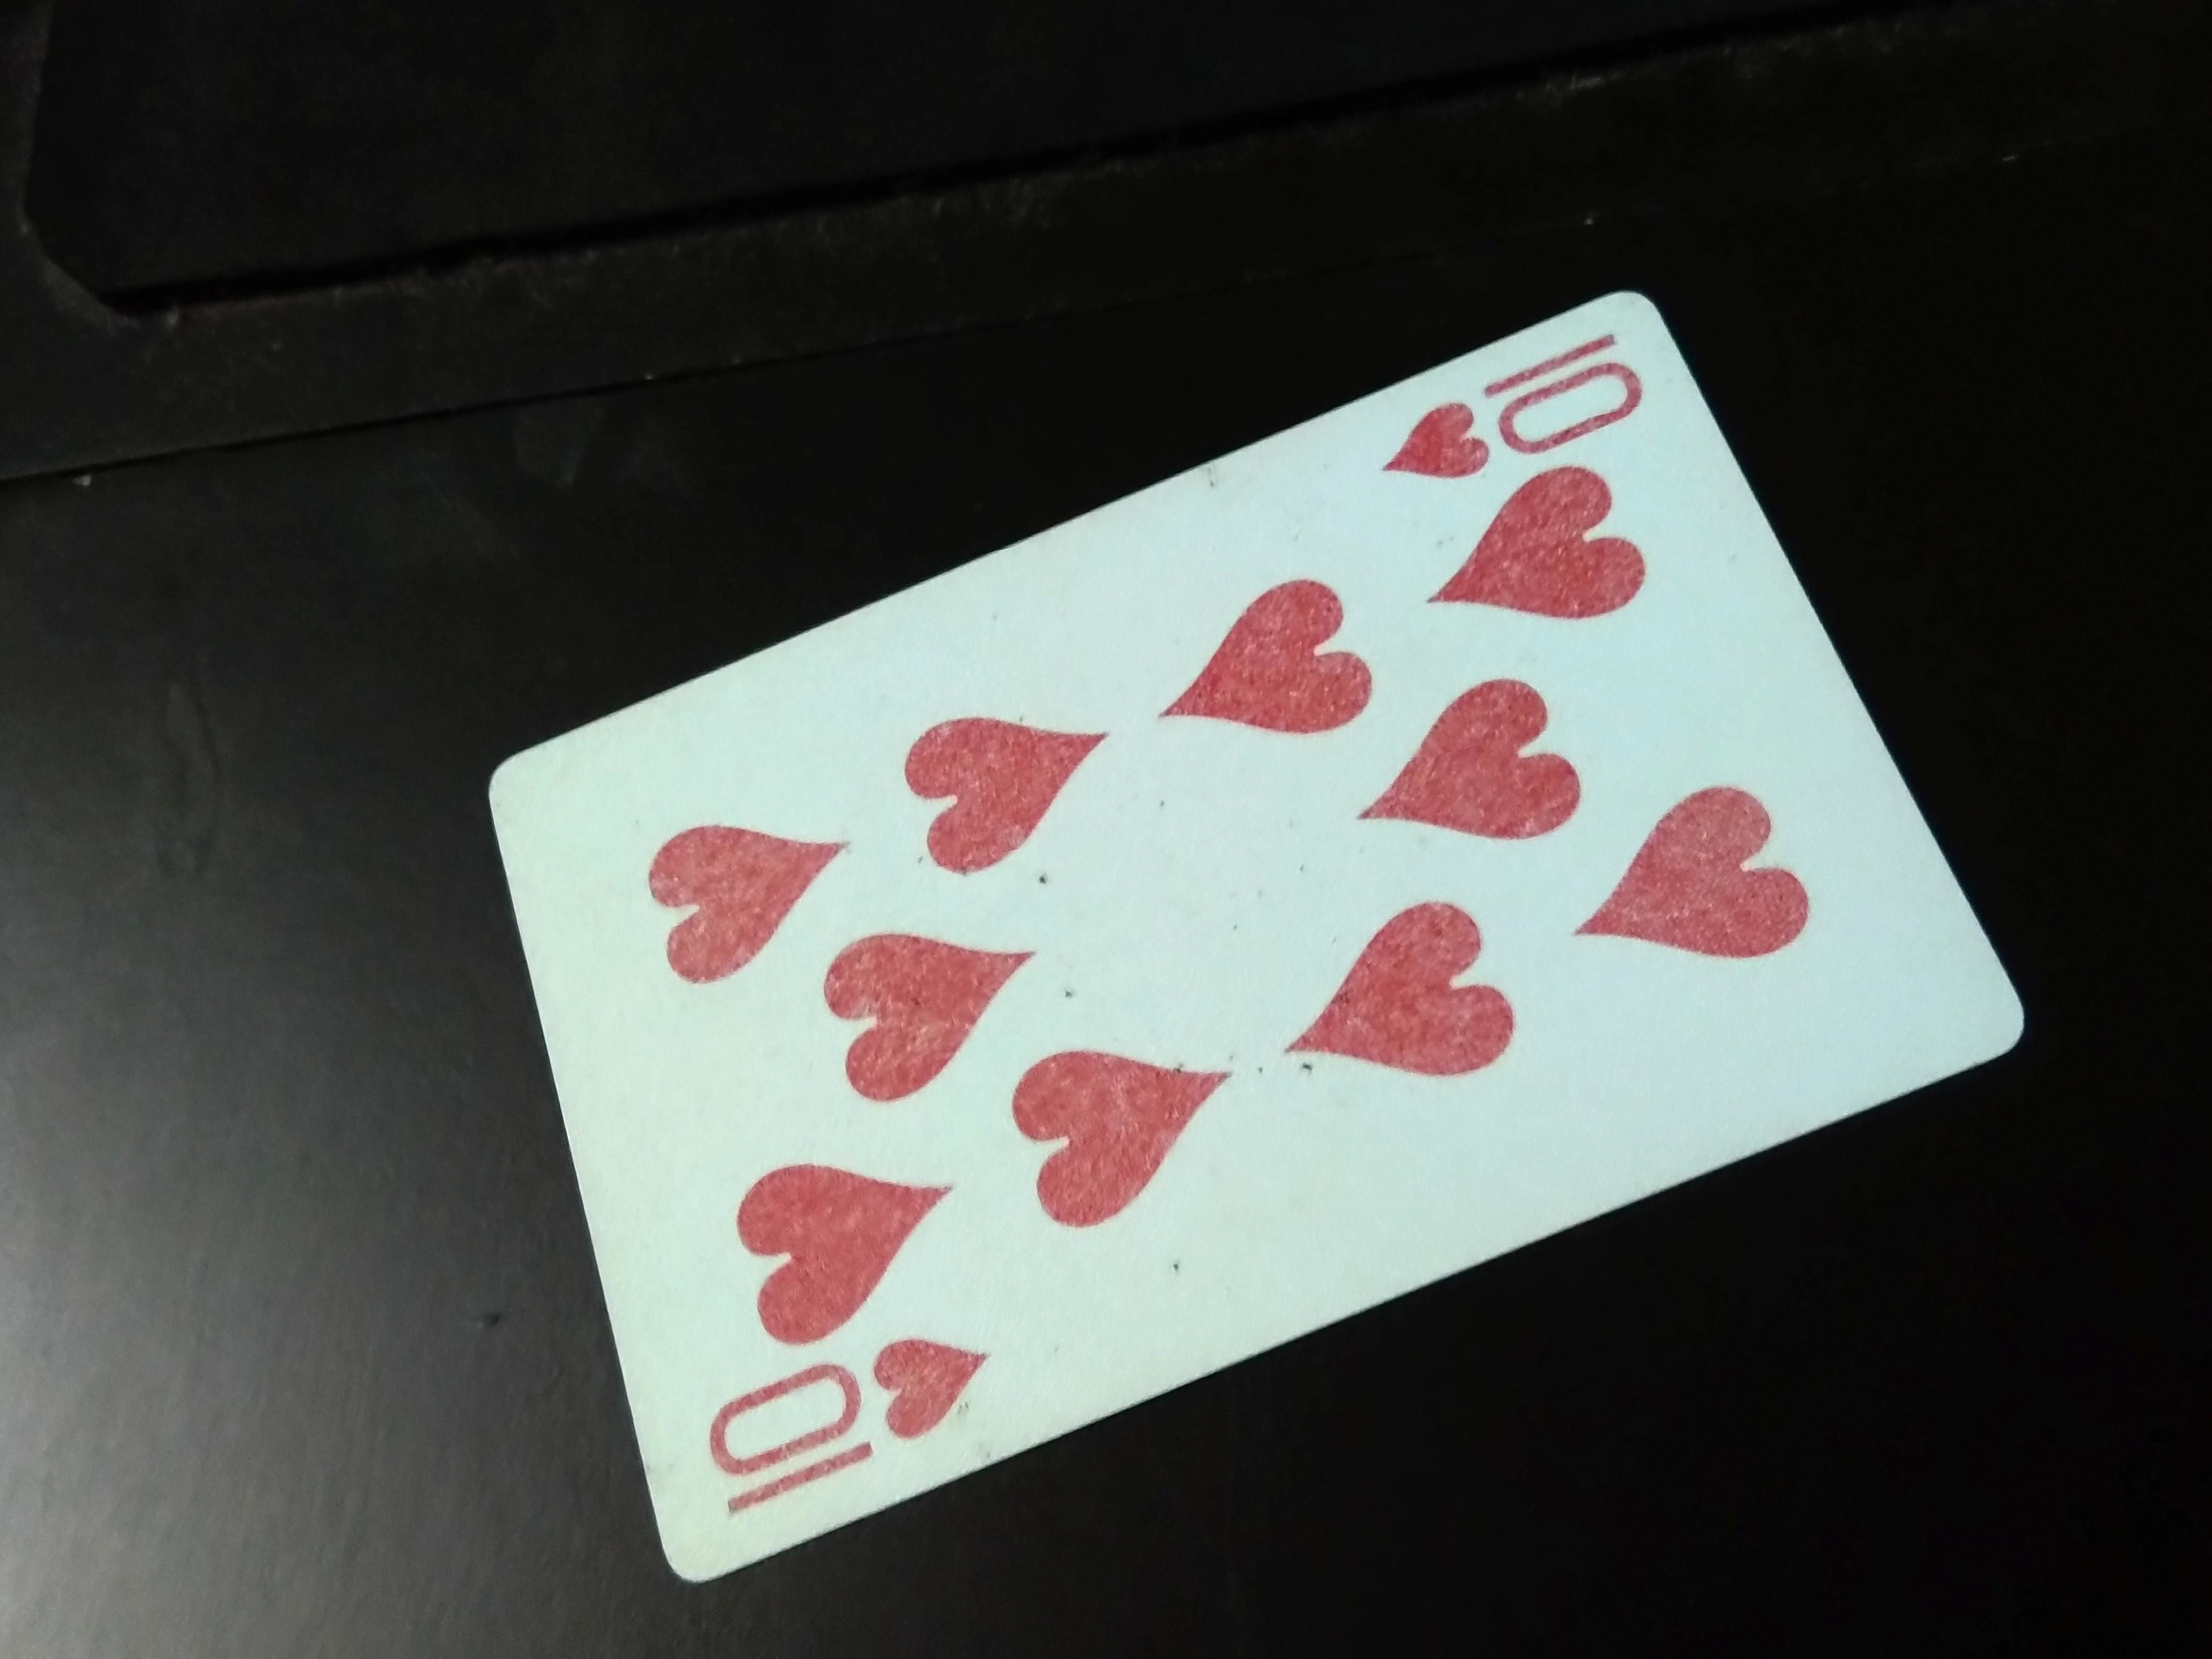10H: (704, 1340, 988, 1488)
